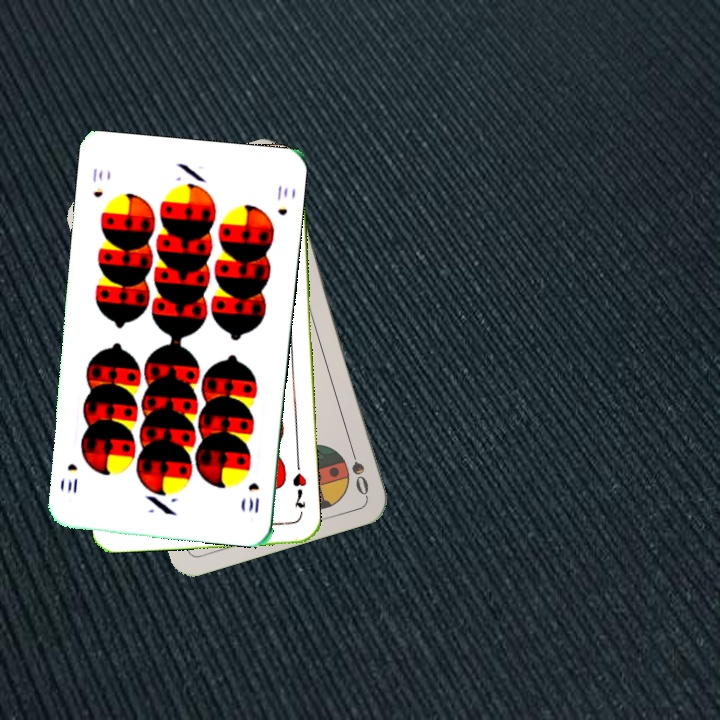H7: (289, 469, 309, 511)
S10: (244, 478, 262, 516), (88, 164, 105, 200)
SO: (345, 440, 372, 498)
